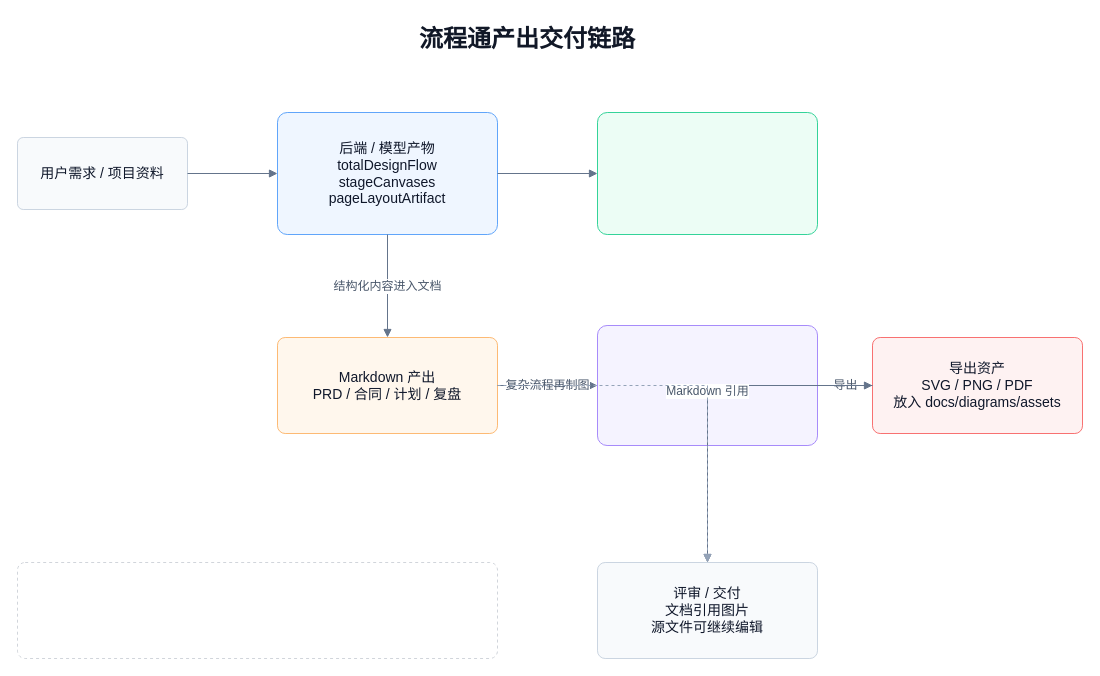
Some shapes in this 1100 by 676 pixel diagram are drawn without their labels. Each missing label, with the centre of its shape:
"Draw.io 源文件 .drawio 仅用于复杂图和交付图" belongs at (707,385).
"前端渲染 画布 / Agent / 全屏详情 不重写业务内容" belongs at (707,173).
"边界：Draw.io 不替换运行时画布；未落地 .drawio 文件时不得声明已生成。" belongs at (257,610).
